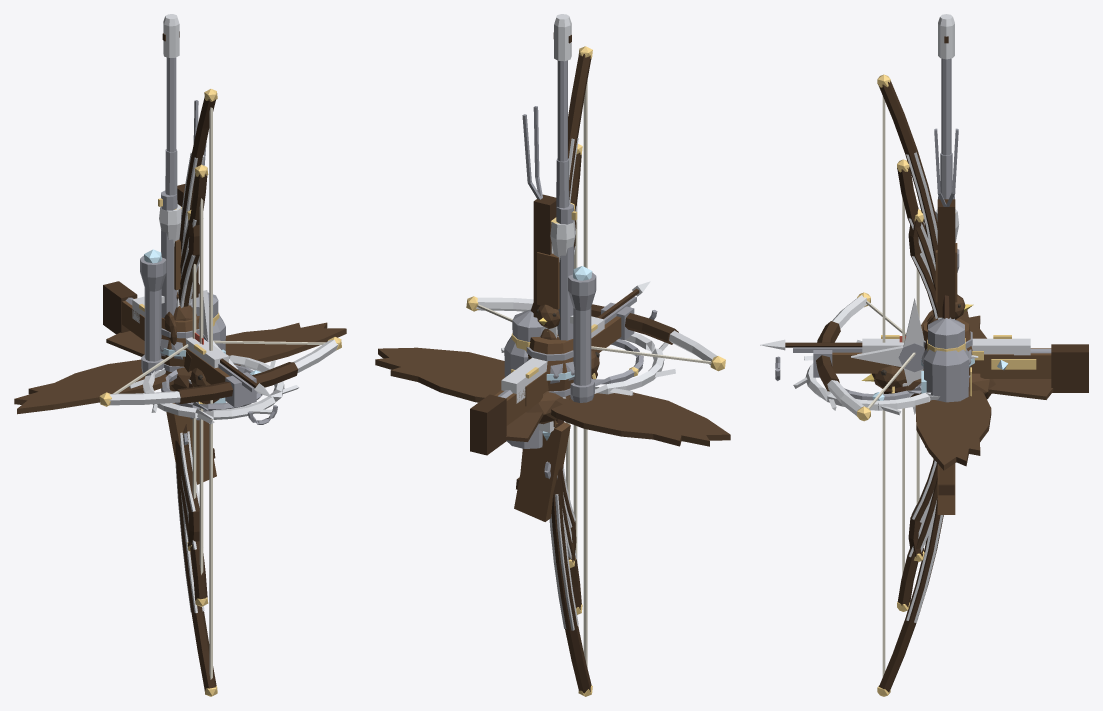
File: weapons-ranger.glb
The picture shows the model from 3 angles, left to right: view 1: azimuth 30°, elevation 25°; view 2: azimuth 150°, elevation 25°; view 3: azimuth 270°, elevation 25°; orthographic projection. The views are drawn at different scales.
Visible parts, largest first — view 1: crossbow_mesh, rifle_mesh, hawk_wing_r, longbow_mesh, chakram_mesh, shotgun_mesh, hawk_wing_l, shortbow_mesh, bow_mesh, longbow_string, bow_string, hawk_body (+5 smaller); view 2: rifle_mesh, crossbow_mesh, shotgun_mesh, hawk_wing_r, hawk_wing_l, longbow_mesh, chakram_mesh, longbow_string, barrel_mesh, flamethrower_mesh, hawk_body, bow_mesh (+5 smaller); view 3: crossbow_mesh, rifle_mesh, longbow_mesh, hawk_wing_l, bow_mesh, canister_mesh, hawk_body, shortbow_mesh, longbow_string, chakram_mesh, shuriken_mesh, flamethrower_mesh (+4 smaller).
Part boxes in pixels (box(x1,y1,x2,y2)): crossbow_mesh: box(99, 281, 341, 424); rifle_mesh: box(140, 14, 215, 458); hawk_wing_r: box(14, 359, 173, 414); longbow_mesh: box(175, 89, 217, 696); chakram_mesh: box(129, 354, 298, 424); shotgun_mesh: box(158, 190, 216, 484); hawk_wing_l: box(225, 322, 346, 365); shortbow_mesh: box(176, 210, 199, 551); bow_mesh: box(176, 164, 208, 606); longbow_string: box(209, 107, 212, 679); bow_string: box(199, 198, 203, 574); hawk_body: box(106, 331, 210, 391); rifle_mesh: box(516, 14, 596, 489); crossbow_mesh: box(466, 281, 725, 455); shotgun_mesh: box(514, 203, 577, 521); hawk_wing_r: box(551, 392, 730, 446); hawk_wing_l: box(375, 347, 504, 402); longbow_mesh: box(549, 46, 592, 696); chakram_mesh: box(501, 332, 675, 398); longbow_string: box(583, 80, 587, 667); barrel_mesh: box(526, 337, 574, 396); flamethrower_mesh: box(511, 219, 575, 428); hawk_body: box(505, 350, 599, 441); bow_mesh: box(557, 144, 582, 614); crossbow_mesh: box(760, 292, 1088, 421); rifle_mesh: box(934, 14, 959, 495); longbow_mesh: box(877, 74, 943, 696); hawk_wing_l: box(915, 390, 991, 470); bow_mesh: box(897, 159, 937, 611); canister_mesh: box(921, 213, 971, 447); hawk_body: box(861, 365, 1053, 399); shortbow_mesh: box(908, 209, 937, 561); longbow_string: box(882, 96, 885, 676); chakram_mesh: box(793, 340, 940, 415); shuriken_mesh: box(851, 298, 978, 414); flamethrower_mesh: box(927, 209, 965, 351).
Size of the model in its own units: 1.25 by 2.39 by 1.06.
